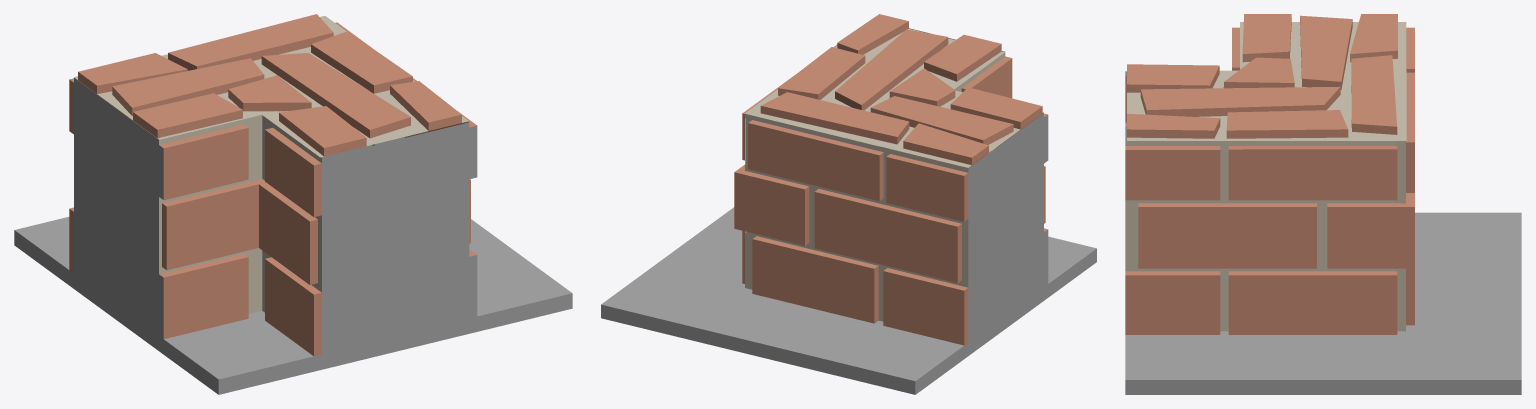
The model's file is wall_corner.fbx.
3 views of the same model, side by side, from view 1: azimuth 30°, elevation 25°; view 2: azimuth 150°, elevation 25°; view 3: azimuth 270°, elevation 25° (orthographic). The views are drawn at different scales.
Parts seen in each view (by area): view 1: pCube28, pCube27, pCube5, pCube25, pCube26, pPlane22; view 2: pCube27, pCube5, pCube25, pCube26, pCube28, pPlane22; view 3: pCube28, pCube5, pCube26, pCube25, pCube27, pPlane22.
Boxes of the visible parts, bbox=[...] form: pCube28: bbox=[254, 22, 477, 356]; pCube27: bbox=[69, 77, 404, 339]; pCube5: bbox=[14, 217, 572, 394]; pCube25: bbox=[78, 14, 333, 138]; pCube26: bbox=[261, 16, 468, 157]; pPlane22: bbox=[74, 46, 365, 139]; pCube27: bbox=[734, 113, 1048, 345]; pCube5: bbox=[601, 207, 1096, 394]; pCube25: bbox=[760, 68, 1042, 164]; pCube26: bbox=[745, 14, 1004, 145]; pCube28: bbox=[739, 28, 1012, 283]; pPlane22: bbox=[781, 67, 1043, 167]; pCube28: bbox=[1125, 71, 1413, 334]; pCube5: bbox=[1125, 212, 1521, 394]; pCube26: bbox=[1127, 64, 1406, 140]; pCube25: bbox=[1223, 14, 1397, 134]; pCube27: bbox=[1232, 27, 1414, 331]; pPlane22: bbox=[1240, 22, 1406, 121].
Size of the model in its own units: 24 by 14.28 by 24.
